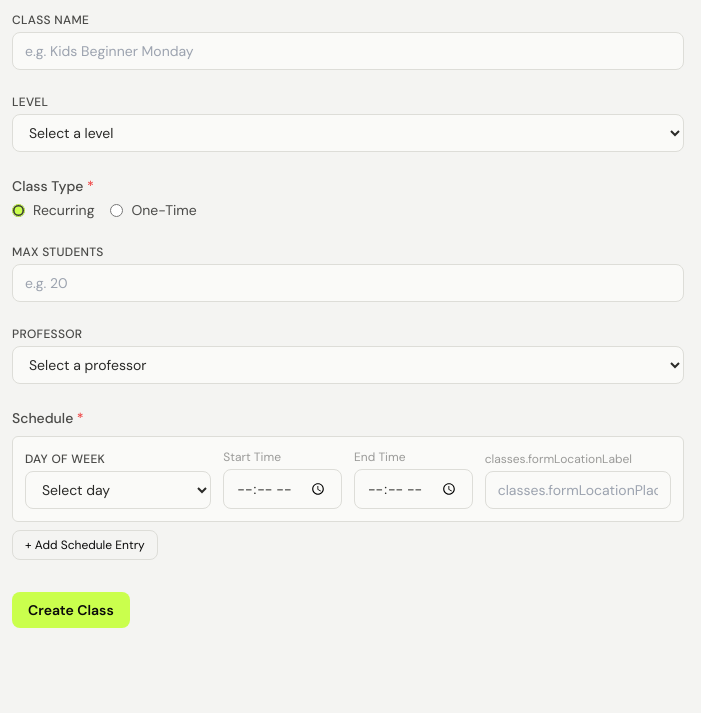
Test: ClassForm (create mode) › validates name is required on submit
Select "Beginner" in the dropdown labelled "Level": [348, 133] box [12,114,684,152]
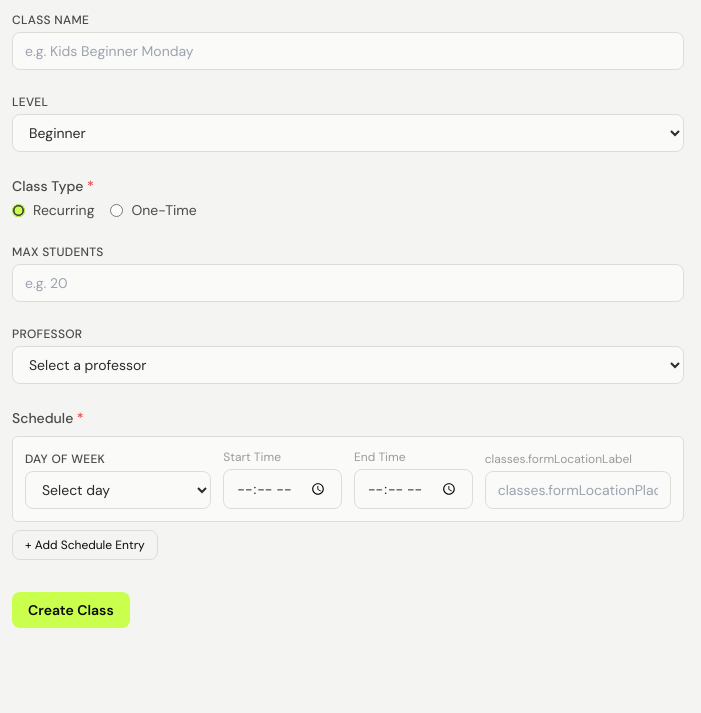
In the number field labelled "Max Students": [348, 283] box [12,264,684,302], type "20"
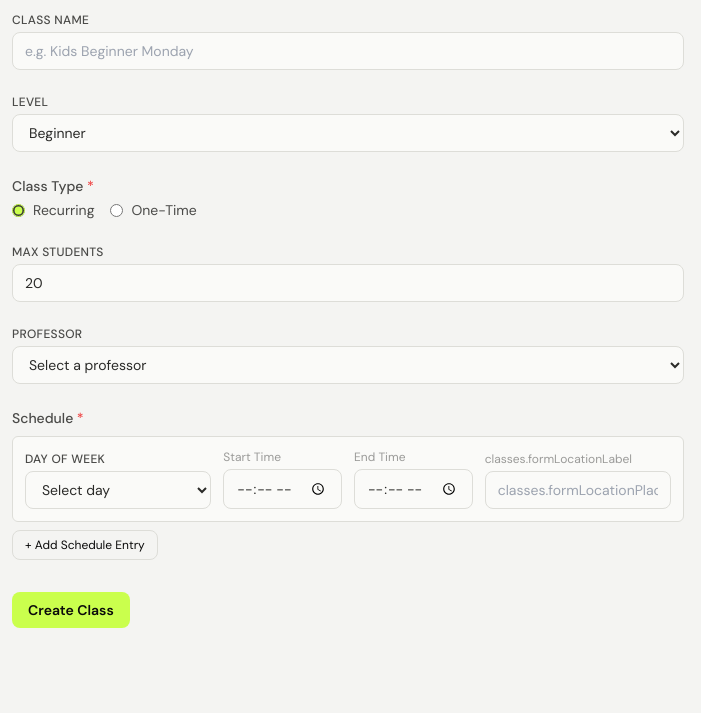
Click the button "Create Class": [71, 610] box [12,592,130,628]
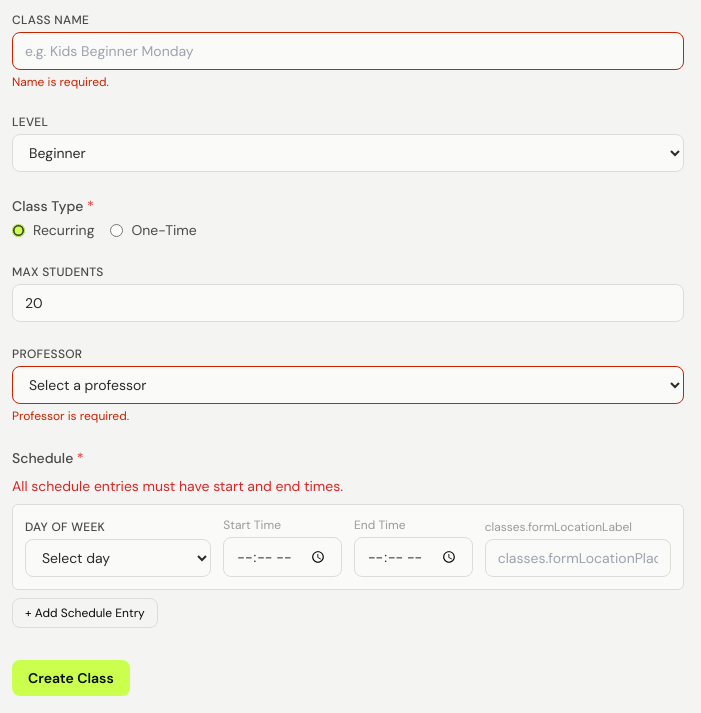
Result: the text "Name is required." is shown at [12,74,109,90]
